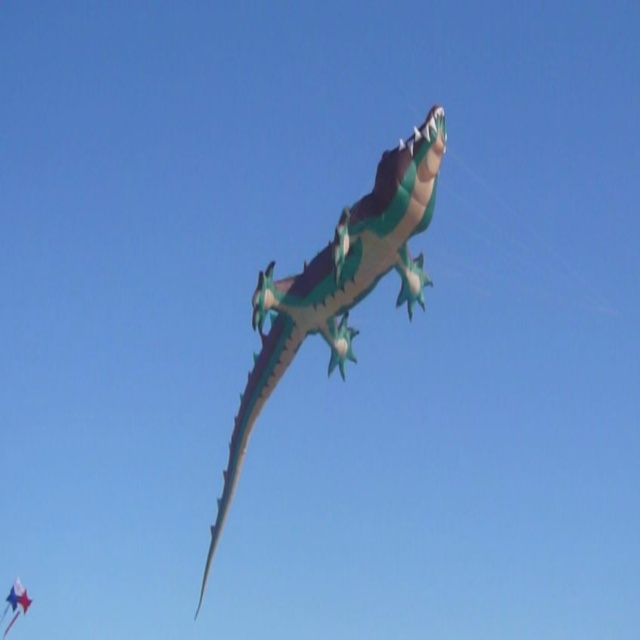Lizard: (174, 48, 453, 615)
